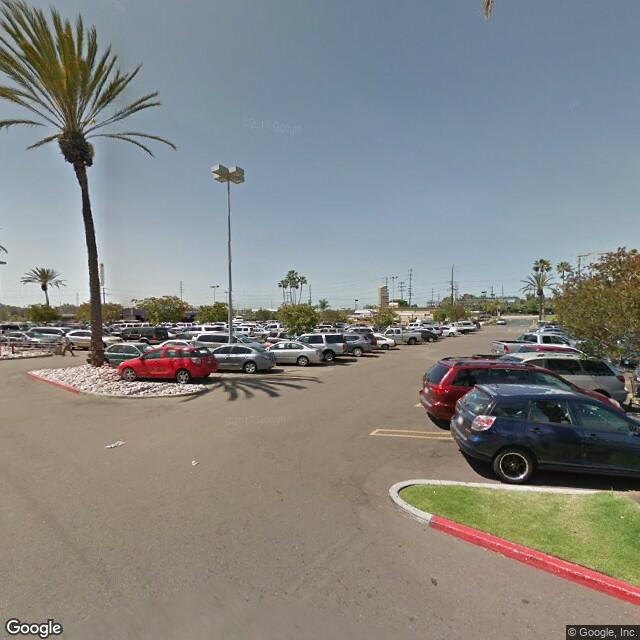litter: (99, 438, 132, 456), (188, 459, 210, 467)
